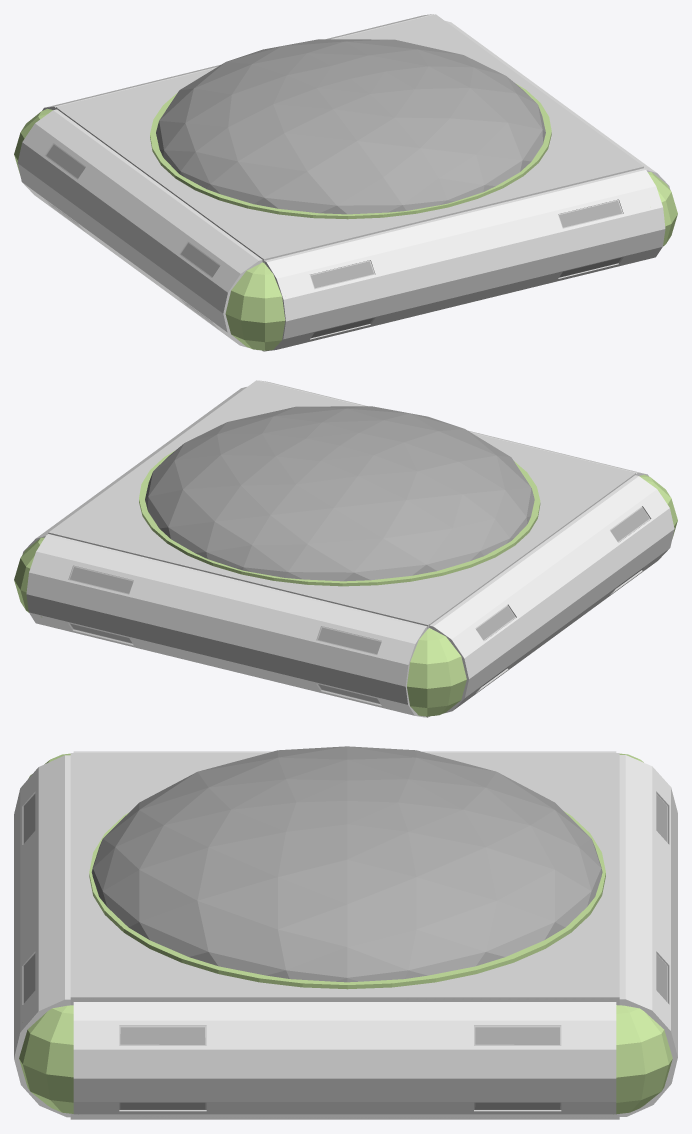
The picture shows the model from 3 angles, top to bottom: view 1: azimuth 30°, elevation 25°; view 2: azimuth 150°, elevation 25°; view 3: azimuth 270°, elevation 25°; orthographic projection. The views are drawn at different scales.
Visible parts, largest first — view 1: Cylinder_11; view 2: Cylinder_11; view 3: Cylinder_11.
Boxes of the visible parts, left/top/right/bottom form: Cylinder_11: left=14, top=14, right=677, bottom=351; Cylinder_11: left=14, top=380, right=677, bottom=717; Cylinder_11: left=14, top=746, right=677, bottom=1119.
Size of the model in its own units: 1476 by 469 by 1429.
